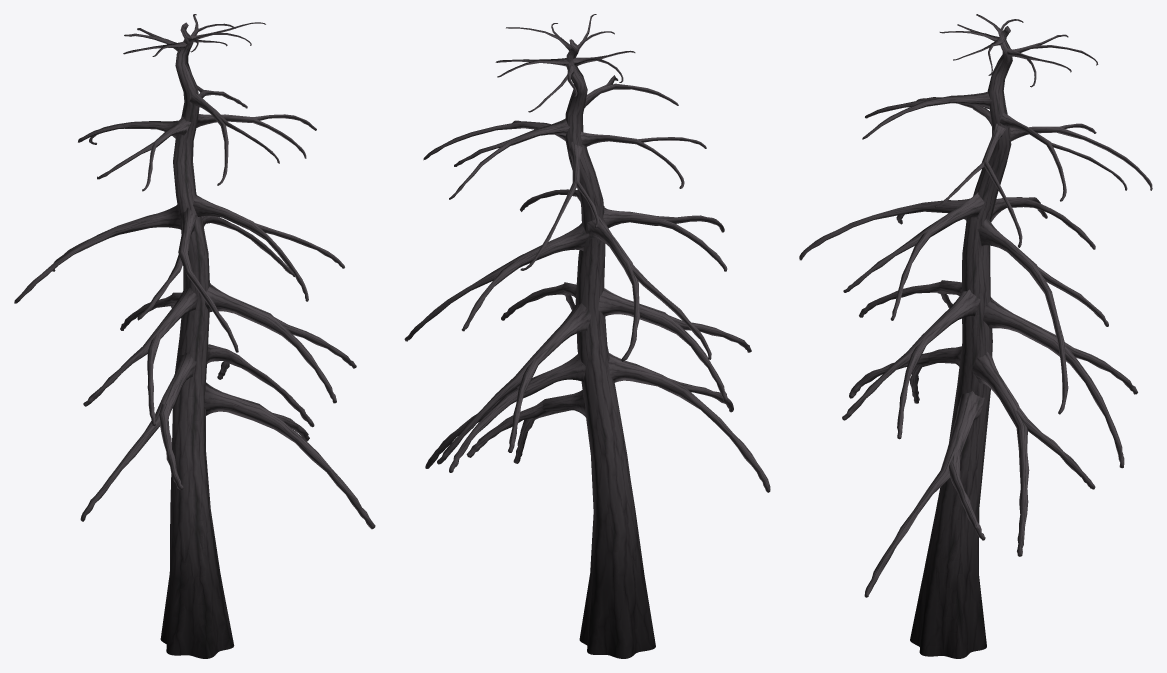
Rendered from DeadTree_5.gltf.
The picture shows the model from 3 angles, left to right: view 1: azimuth 30°, elevation 25°; view 2: azimuth 150°, elevation 25°; view 3: azimuth 270°, elevation 25°; orthographic projection. The views are drawn at different scales.
Parts seen in each view (by area): view 1: DeadTree_5; view 2: DeadTree_5; view 3: DeadTree_5.
Part boxes in pixels (x1,y1,x2,y2): DeadTree_5: (14,14,375,658); DeadTree_5: (404,14,770,658); DeadTree_5: (799,14,1152,658).
Size of the model in its own units: 8.36 by 16.44 by 8.41.
Materials: 1 (1 with a texture image).
